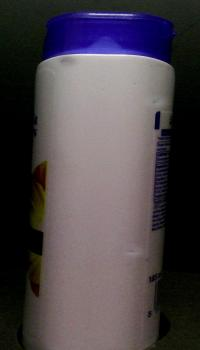dent_marginal: (101, 239, 151, 260), (145, 92, 177, 112), (52, 54, 84, 71)
